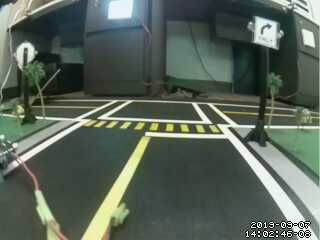Right_only_sign: (249, 13, 280, 51)
